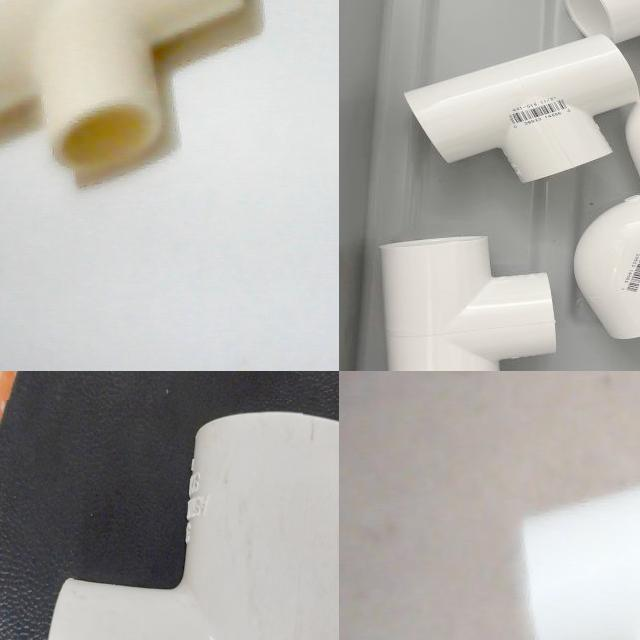Defective: (0, 403, 130, 496)
L Joint: (0, 401, 303, 640), (575, 194, 640, 343)
T Joint: (406, 34, 640, 185), (377, 237, 559, 371), (519, 484, 640, 640)
